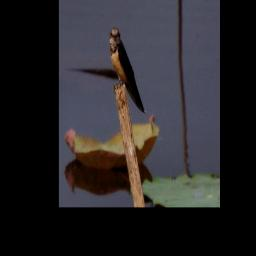Swallow: (109, 26, 146, 116)
